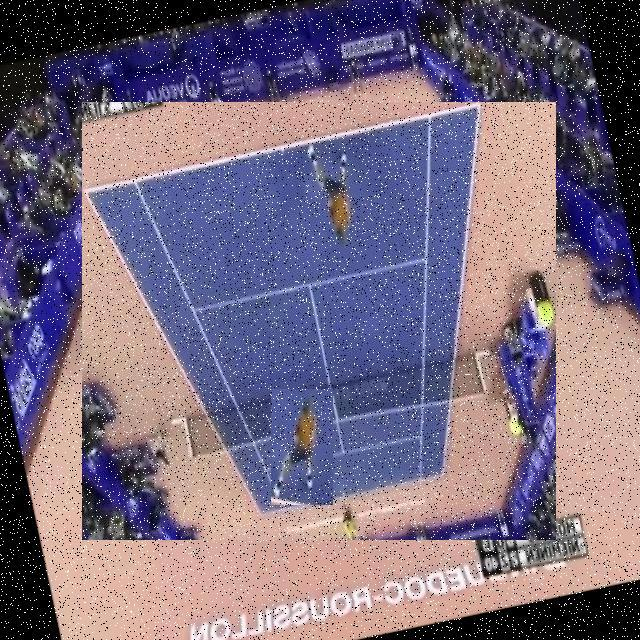court: (82, 102, 556, 540)
net: (148, 178, 458, 289)
player: (271, 389, 333, 505)
